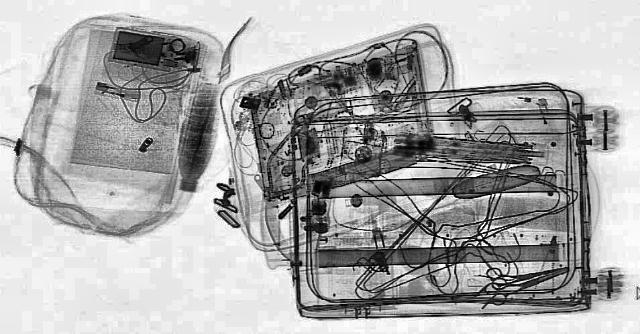Scissors: (469, 262, 579, 306), (478, 255, 574, 289)
